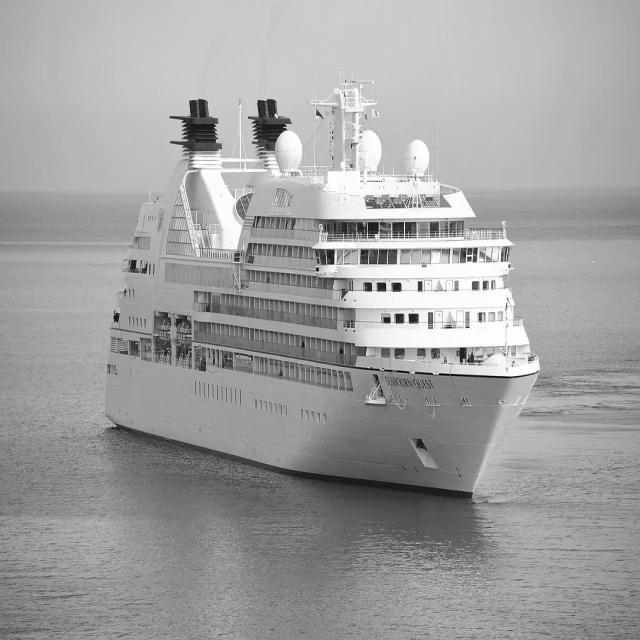Cruise Ship: (98, 63, 547, 521)
